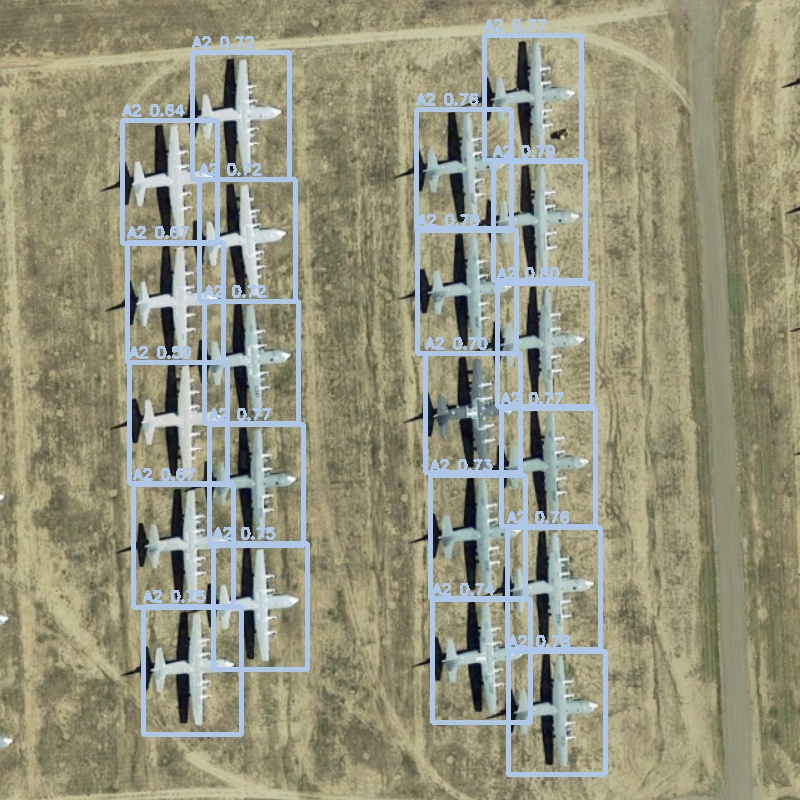A2: (143, 606, 241, 734), (192, 52, 289, 179), (133, 484, 233, 607), (417, 230, 516, 353), (484, 35, 581, 160), (432, 599, 530, 722), (508, 651, 605, 774), (129, 362, 227, 483), (213, 543, 307, 669), (199, 179, 295, 301), (497, 283, 592, 406), (430, 475, 525, 598), (122, 120, 217, 243), (127, 242, 223, 362), (204, 301, 298, 423), (209, 424, 303, 545), (507, 527, 600, 649), (416, 109, 511, 228), (425, 353, 520, 472), (501, 408, 595, 526), (493, 161, 585, 280)
